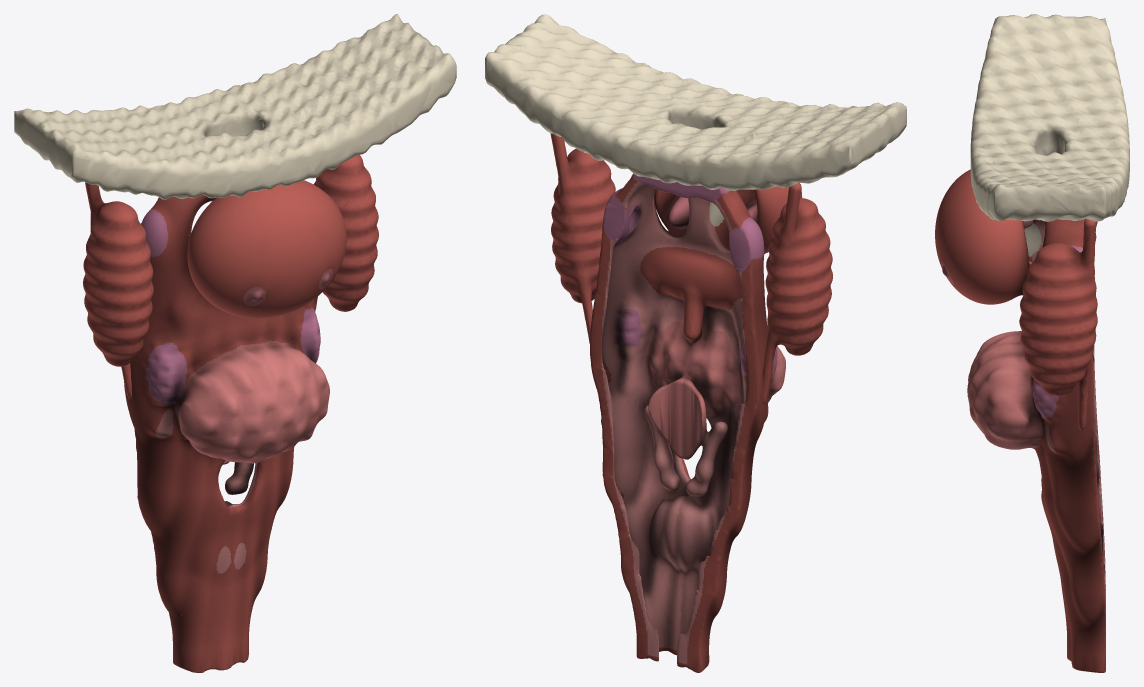
File: faringe.glb
3 renders of one model, left to right at view 1: azimuth 30°, elevation 25°; view 2: azimuth 150°, elevation 25°; view 3: azimuth 270°, elevation 25°, orthographic. The views are drawn at different scales.
Parts seen in each view (by area): view 1: skull_base, sup_constrictor, tongue, inf_constrictor, pterygoid_R, pterygoid_L, mid_constrictor, esophagus_muscle, cricopharyngeus, pal_tonsil_R, torus_R, pal_tonsil_L; view 2: skull_base, laryngopharynx, pterygoid_R, oropharynx, sup_constrictor, pterygoid_L, tongue, soft_palate, nasopharynx, mid_constrictor, postcricoid, inf_constrictor (+15 smaller); view 3: skull_base, pterygoid_L, sup_constrictor, tongue, inf_constrictor, mid_constrictor, esophagus_muscle, cricopharyngeus, stylopharyngeus_L, laryngopharynx, pal_tonsil_L, vomer.
Part boxes in pixels (x1=…): skull_base: x1=14, y1=14, x2=456, y2=199; sup_constrictor: x1=141, y1=180, x2=346, y2=356; tongue: x1=174, y1=339, x2=329, y2=463; inf_constrictor: x1=137, y1=447, x2=294, y2=577; pterygoid_R: x1=83, y1=201, x2=153, y2=366; pterygoid_L: x1=313, y1=155, x2=378, y2=311; mid_constrictor: x1=124, y1=327, x2=304, y2=472; esophagus_muscle: x1=169, y1=596, x2=256, y2=672; cricopharyngeus: x1=156, y1=553, x2=267, y2=616; pal_tonsil_R: x1=145, y1=342, x2=187, y2=406; torus_R: x1=141, y1=209, x2=168, y2=257; pal_tonsil_L: x1=300, y1=308, x2=320, y2=363; skull_base: x1=485, y1=14, x2=906, y2=190; laryngopharynx: x1=605, y1=383, x2=741, y2=606; pterygoid_R: x1=765, y1=198, x2=832, y2=355; oropharynx: x1=601, y1=253, x2=747, y2=426; sup_constrictor: x1=592, y1=175, x2=802, y2=356; pterygoid_L: x1=551, y1=148, x2=615, y2=303; tongue: x1=645, y1=321, x2=785, y2=416; soft_palate: x1=639, y1=246, x2=741, y2=310; nasopharynx: x1=608, y1=182, x2=742, y2=296; mid_constrictor: x1=590, y1=316, x2=772, y2=472; postcricoid: x1=650, y1=495, x2=715, y2=570; inf_constrictor: x1=602, y1=438, x2=752, y2=580; skull_base: x1=970, y1=14, x2=1129, y2=221; pterygoid_L: x1=1019, y1=242, x2=1097, y2=396; sup_constrictor: x1=935, y1=169, x2=1093, y2=379; tongue: x1=967, y1=331, x2=1042, y2=449; inf_constrictor: x1=1041, y1=425, x2=1104, y2=587; mid_constrictor: x1=1030, y1=344, x2=1097, y2=488; esophagus_muscle: x1=1064, y1=604, x2=1105, y2=672; cricopharyngeus: x1=1057, y1=543, x2=1105, y2=622; stylopharyngeus_L: x1=1078, y1=219, x2=1096, y2=429; laryngopharynx: x1=1093, y1=380, x2=1105, y2=602; pal_tonsil_L: x1=1031, y1=378, x2=1058, y2=418; vomer: x1=1024, y1=223, x2=1041, y2=257.
Size of the model in its own units: 0.104 by 0.1547 by 0.0489.
